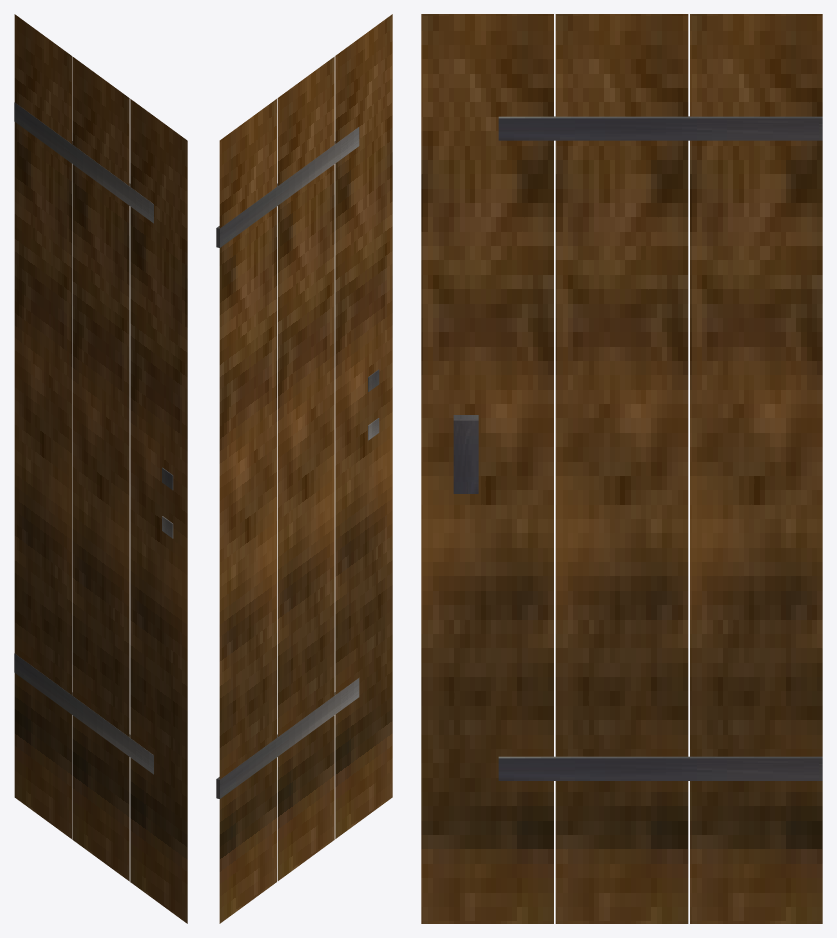
Rendered from Door2.glb.
3 renders of one model, left to right at view 1: azimuth 30°, elevation 25°; view 2: azimuth 150°, elevation 25°; view 3: azimuth 270°, elevation 25°, orthographic. The views are drawn at different scales.
Parts seen in each view (by area): view 1: Door.001, Cube.001, Cube, Cube.002; view 2: Door.001, Cube.001, Cube; view 3: Door.001, Cube, Cube.001, Cube.002.
Part boxes in pixels (left/top/right/bottom): Door.001: left=14, top=14, right=187, bottom=923; Cube.001: left=14, top=653, right=153, bottom=774; Cube: left=14, top=102, right=153, bottom=223; Cube.002: left=162, top=467, right=173, bottom=538; Door.001: left=219, top=14, right=392, bottom=923; Cube.001: left=216, top=678, right=359, bottom=798; Cube: left=216, top=127, right=359, bottom=247; Door.001: left=421, top=14, right=822, bottom=923; Cube: left=498, top=116, right=822, bottom=140; Cube.001: left=498, top=756, right=822, bottom=780; Cube.002: left=453, top=415, right=478, bottom=493.
Bounding box in the file's own units: 0.0439 × 2.99 × 1.2.
Materials: 2 (2 with a texture image).
